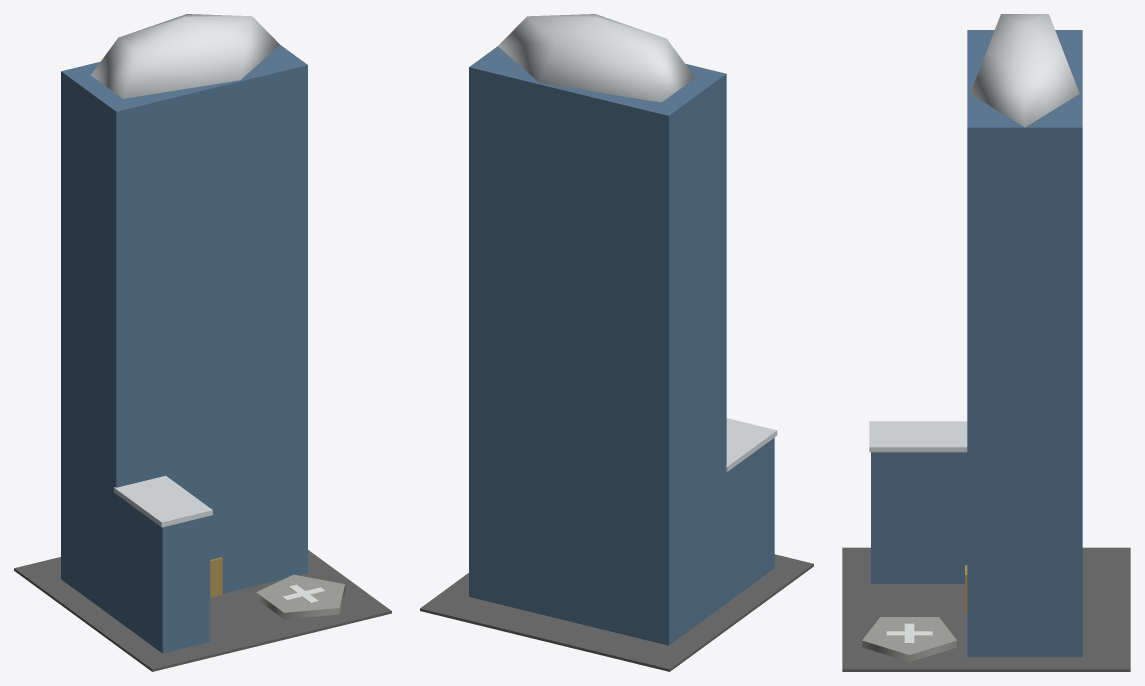
File: bld_special_hospital_a10_lod2.glb
3 views of the same model, side by side, from view 1: azimuth 30°, elevation 25°; view 2: azimuth 150°, elevation 25°; view 3: azimuth 270°, elevation 25° (orthographic). The views are drawn at different scales.
Parts seen in each view (by area): view 1: body; view 2: body; view 3: body.
Part boxes in pixels (x1,y1,x2,y2): body: [14, 14, 391, 671]; body: [420, 14, 813, 671]; body: [842, 14, 1130, 671].
Bounding box in the file's own units: 15 × 33.55 × 15.
